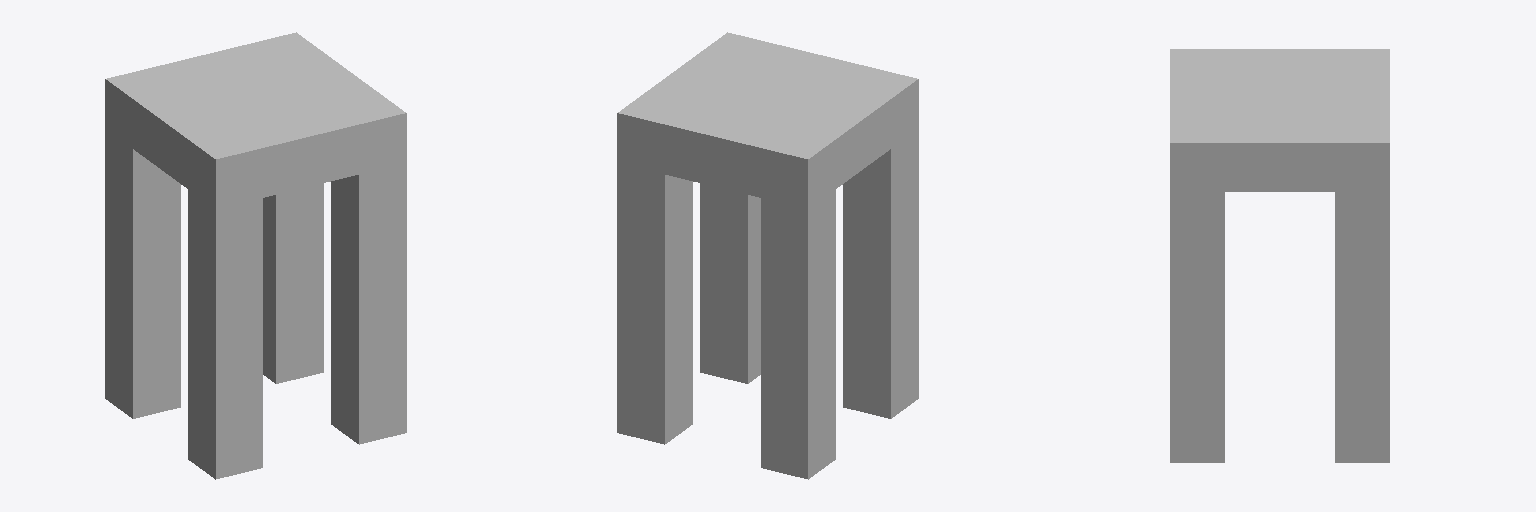
Rendered from endtable.obj.
The picture shows the model from 3 angles: view 1: azimuth 30°, elevation 25°; view 2: azimuth 150°, elevation 25°; view 3: azimuth 270°, elevation 25°; orthographic projection.
Visible parts, largest first — view 1: Cube; view 2: Cube; view 3: Cube.
Boxes of the visible parts, <box> form: Cube: <box>105,32,406,479</box>; Cube: <box>617,32,918,479</box>; Cube: <box>1170,49,1389,462</box>.
Size of the model in its own units: 2 by 3.2 by 2.